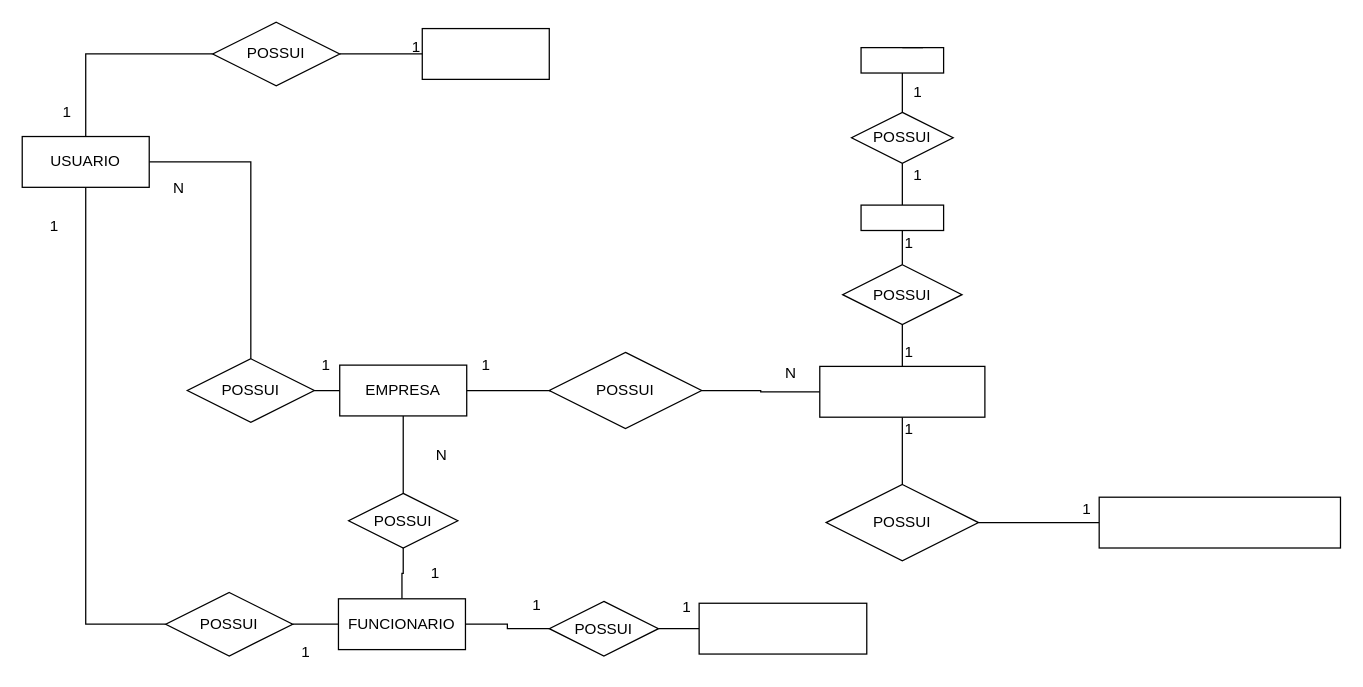
Some shapes in this 1363 by 687 pixel diagram are drawn without their labels. Here are the shapes that lost their labels. From the top down, the box of each, then its label:
(421, 27, 549, 79): ADM
(860, 46, 944, 73): EC2
(860, 204, 944, 231): VPC
(819, 365, 985, 417): EQUIPAMENTO
(1098, 496, 1340, 548): SITUAÇÃOEQUIPAMENTO
(698, 602, 867, 654): SituacaoFuncionario
